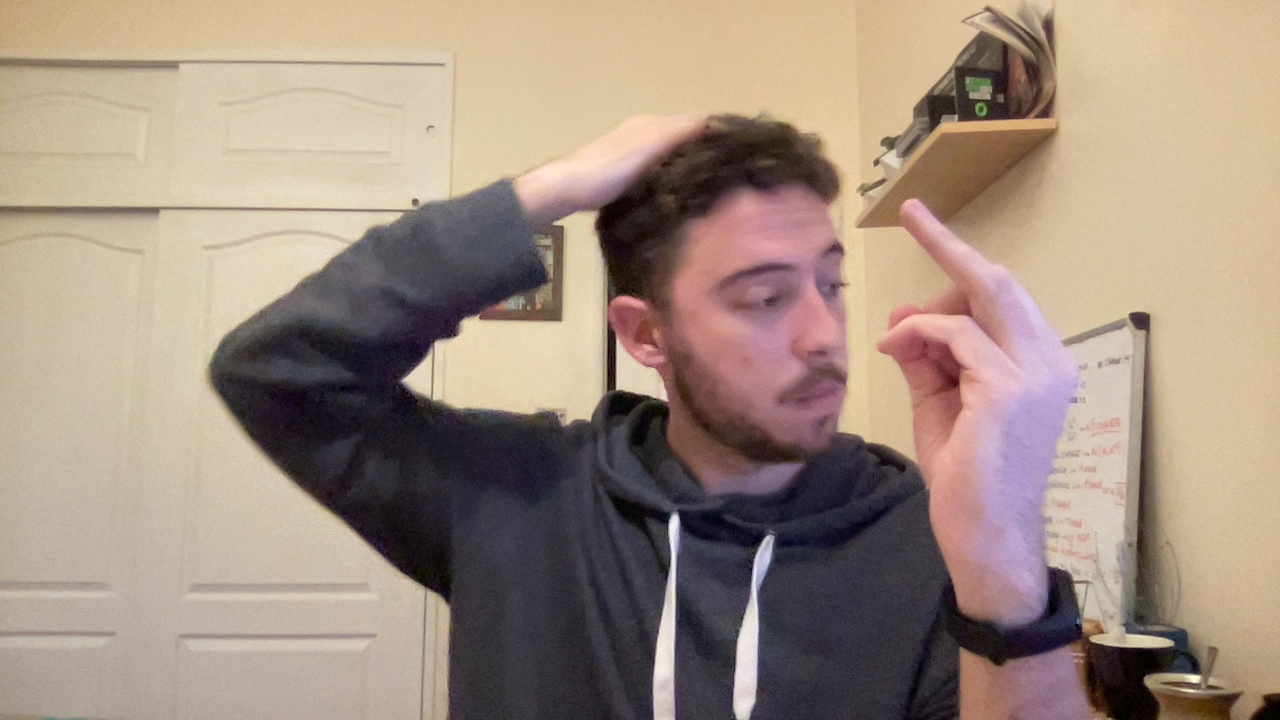anular: (865, 197, 1087, 517)
